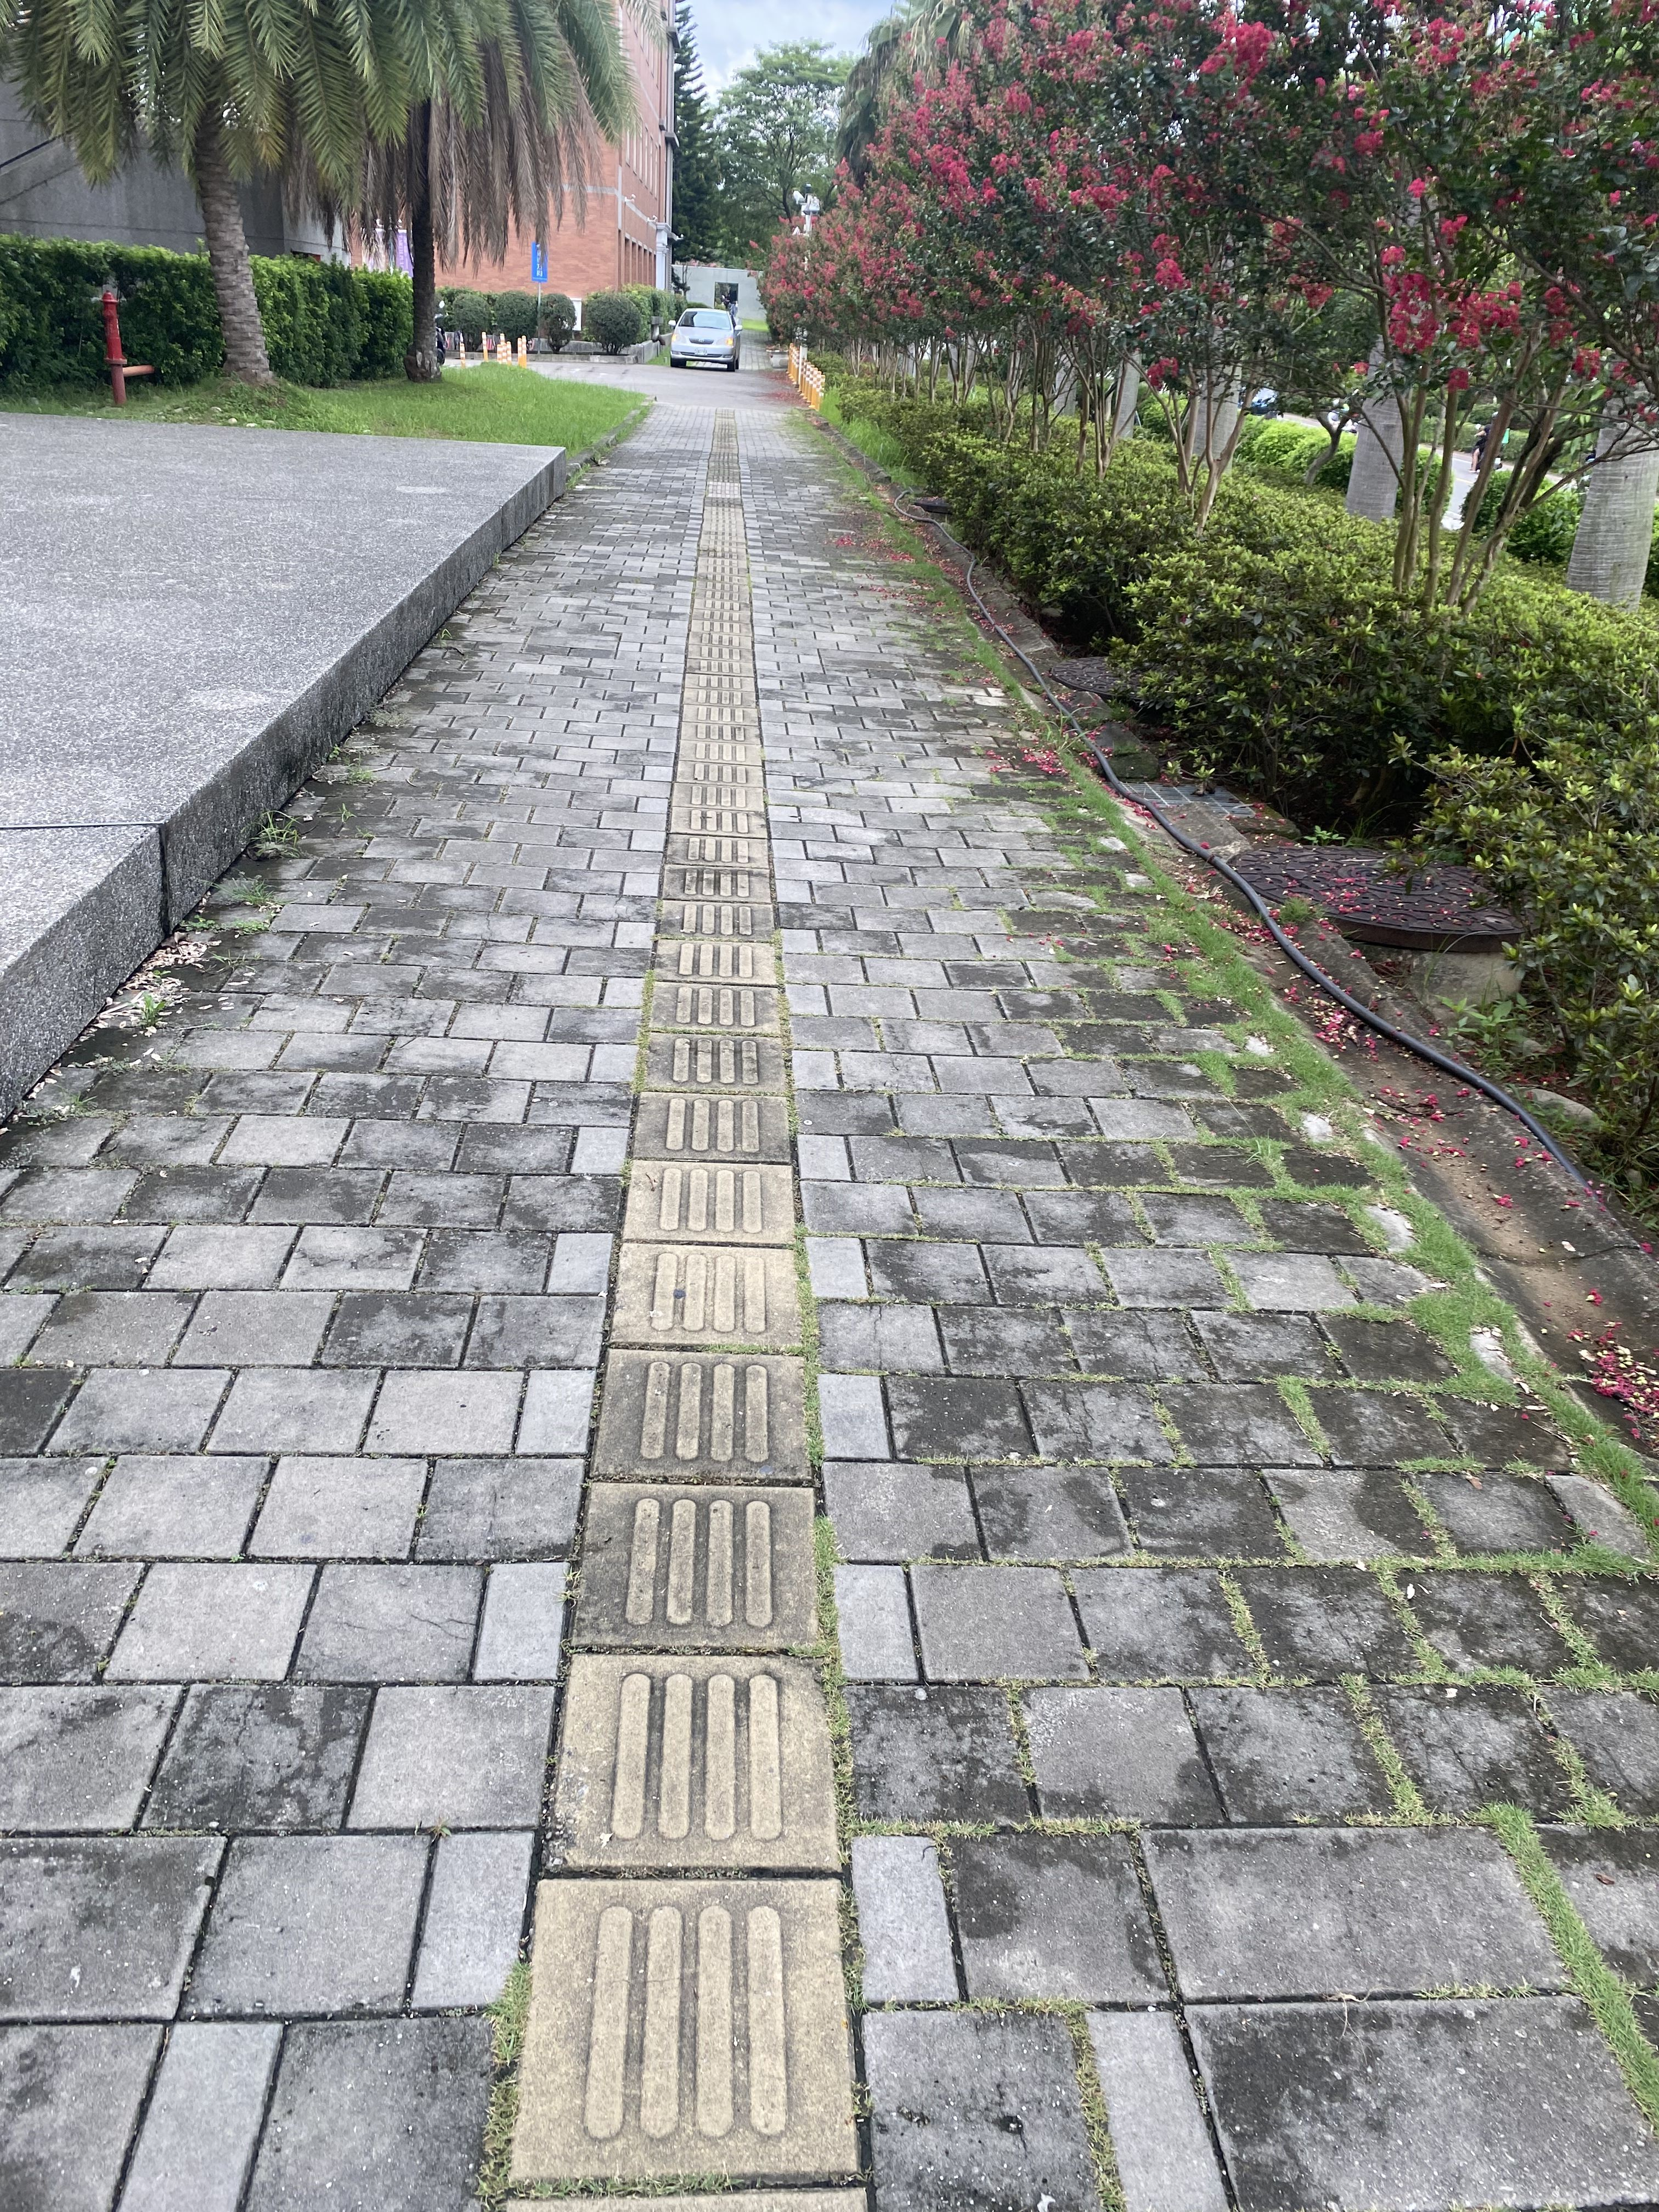0: (10, 540, 1659, 2212)
sidewalk: (535, 385, 1133, 1514)
